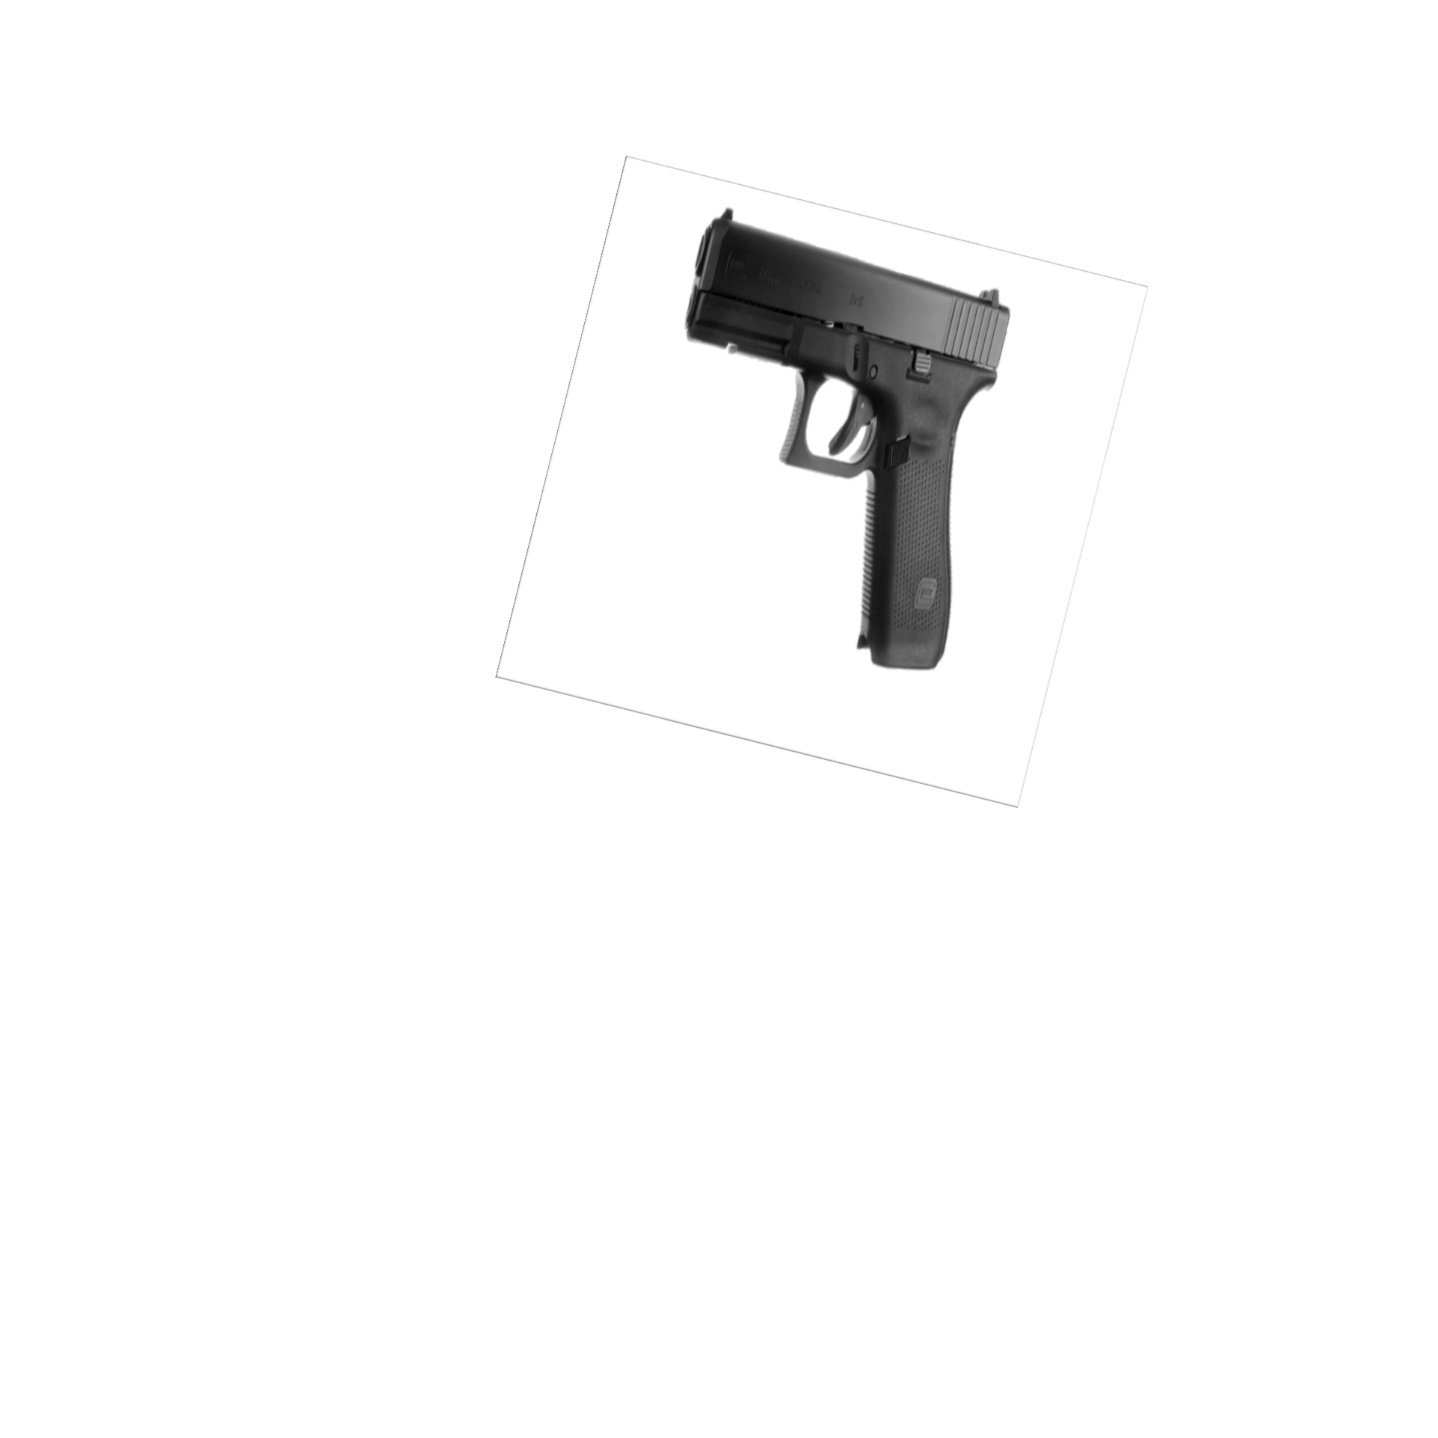gun: (662, 201, 1026, 695)
